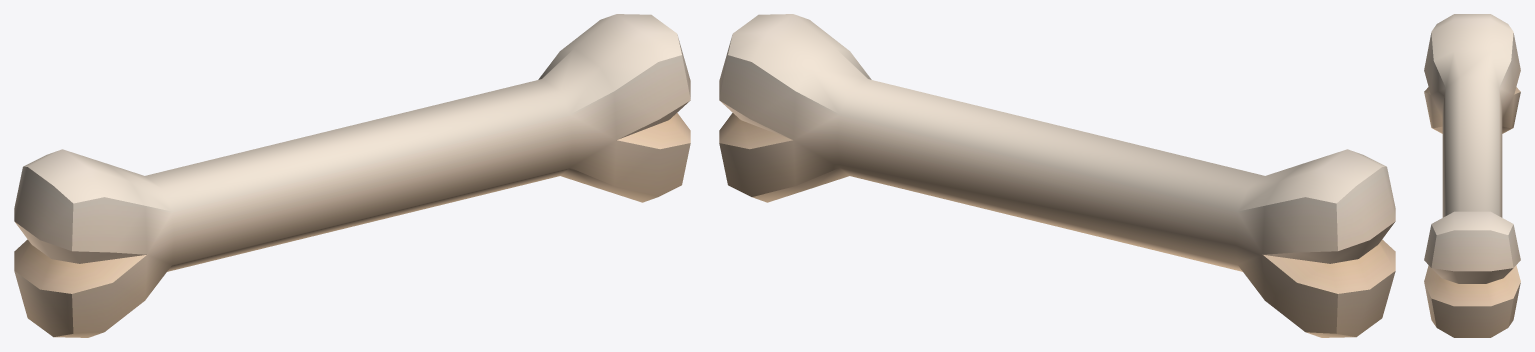
The model's file is bone_b.glb.
3 renders of one model, left to right at view 1: azimuth 30°, elevation 25°; view 2: azimuth 150°, elevation 25°; view 3: azimuth 270°, elevation 25°, orthographic. The views are drawn at different scales.
Parts seen in each view (by area): view 1: bone_C; view 2: bone_C; view 3: bone_C.
Part boxes in pixels (left/top/right/bottom): bone_C: left=14, top=14, right=690, bottom=337; bone_C: left=719, top=14, right=1395, bottom=337; bone_C: left=1424, top=14, right=1520, bottom=337.
Size of the model in its own units: 0.5 by 0.1247 by 0.0906.
Materials: 1 (1 with a texture image).
